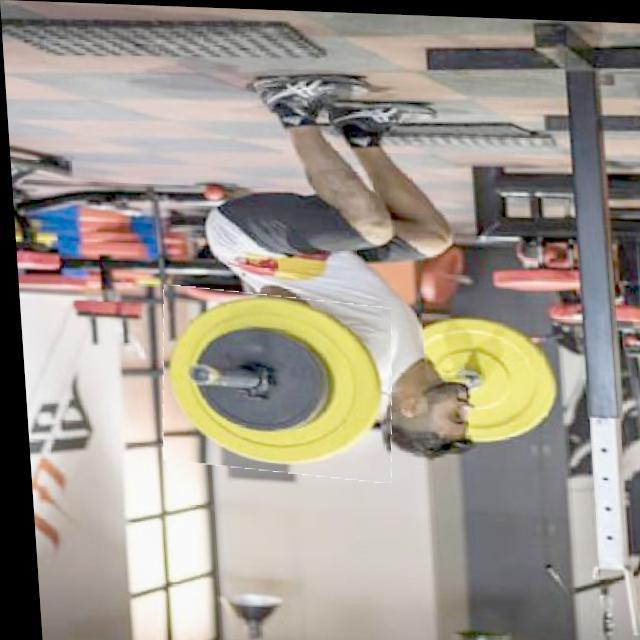barbell: (152, 287, 394, 478)
